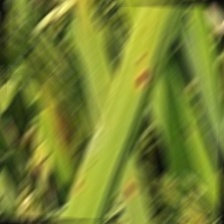Bacterial_Leaf_Blight: (133, 70, 153, 86), (121, 180, 135, 199), (70, 179, 83, 195), (137, 52, 148, 61)
